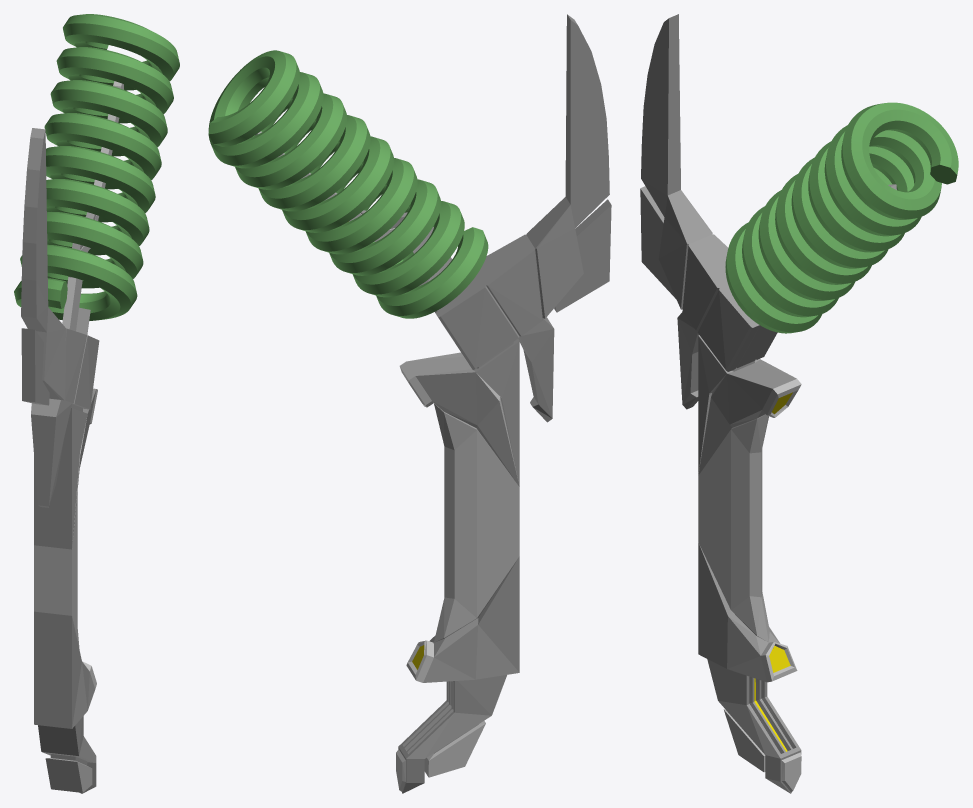
The model's file is energy_base.fbx.
3 views of the same model, side by side, from view 1: azimuth 30°, elevation 25°; view 2: azimuth 150°, elevation 25°; view 3: azimuth 270°, elevation 25° (orthographic). The views are drawn at different scales.
Visible parts, largest first — view 1: energy_base; view 2: energy_base; view 3: energy_base.
Part boxes in pixels (x1,y1,x2,y2): energy_base: [14, 14, 179, 793]; energy_base: [208, 14, 611, 793]; energy_base: [640, 14, 958, 793].
Size of what is drawn, in the model's own units: 1252 by 3282 by 1300.
